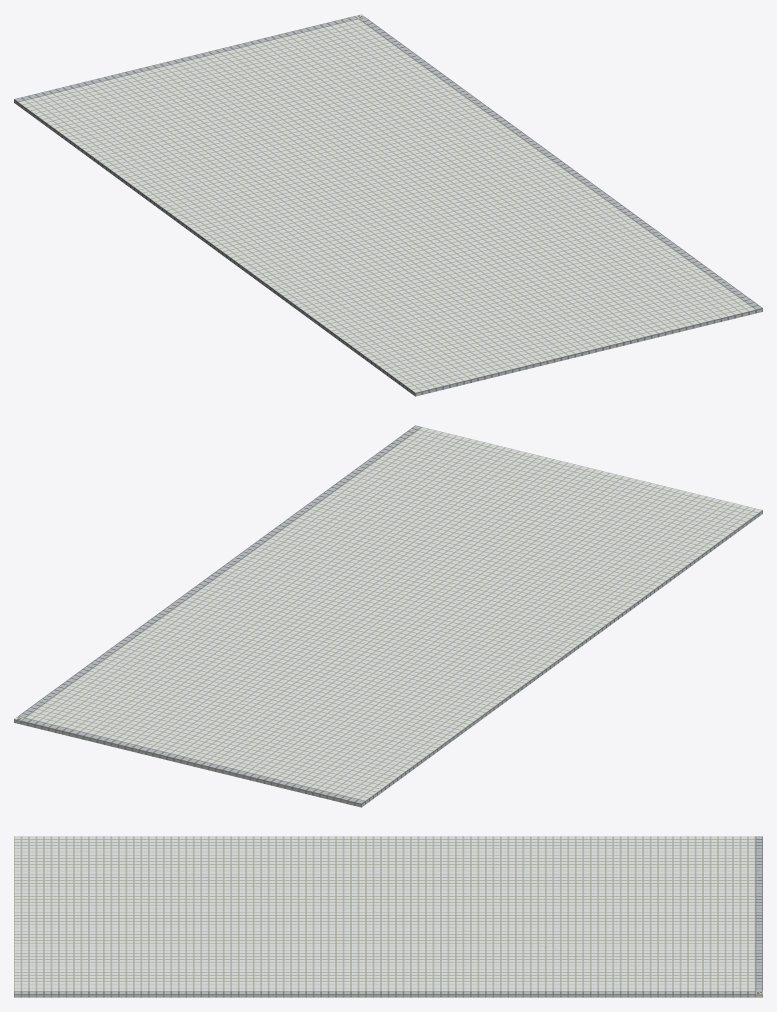
The model's file is Brick Flat 100x50.fbx.
3 renders of one model, top to bottom at view 1: azimuth 30°, elevation 25°; view 2: azimuth 150°, elevation 25°; view 3: azimuth 270°, elevation 25°, orthographic. The views are drawn at different scales.
Parts seen in each view (by area): view 1: Cube; view 2: Cube; view 3: Cube.
Boxes of the visible parts, <box> form: Cube: <box>14,14,762,396</box>; Cube: <box>14,425,762,807</box>; Cube: <box>14,836,762,997</box>.
Bounding box in the file's own units: 50 × 0.5 × 100.
